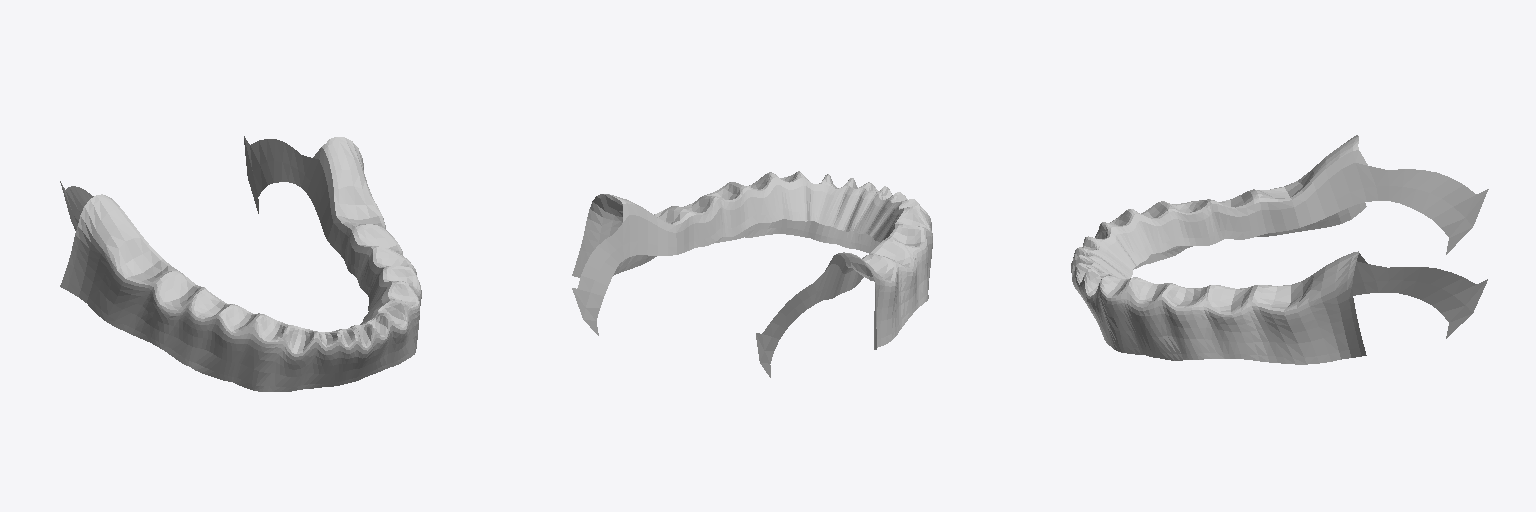
Rendered from Victor_lowerGums.obj.
3 views of the same model, side by side, from view 1: azimuth 30°, elevation 25°; view 2: azimuth 150°, elevation 25°; view 3: azimuth 270°, elevation 25° (orthographic).
Visible parts, largest first — view 1: Victor_lowerGums Victor_Mesh def:geo FTI_Victor; view 2: Victor_lowerGums Victor_Mesh def:geo FTI_Victor; view 3: Victor_lowerGums Victor_Mesh def:geo FTI_Victor.
Boxes of the visible parts, x1=… form: Victor_lowerGums Victor_Mesh def:geo FTI_Victor: x1=60, y1=136, x2=421, y2=391; Victor_lowerGums Victor_Mesh def:geo FTI_Victor: x1=572, y1=171, x2=932, y2=377; Victor_lowerGums Victor_Mesh def:geo FTI_Victor: x1=1071, y1=135, x2=1488, y2=364.
Bounding box in the file's own units: 0.9158 × 0.3516 × 1.08.